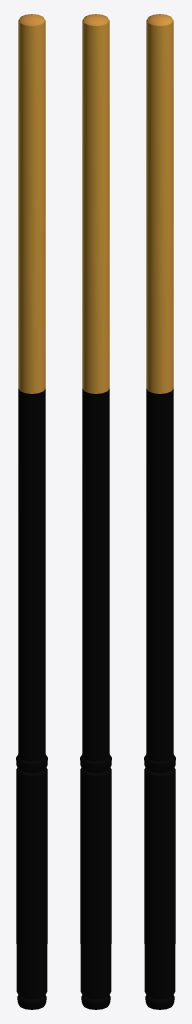
File: Sea_Mark_Cardinal_South.fbx
3 renders of one model, left to right at view 1: azimuth 30°, elevation 25°; view 2: azimuth 150°, elevation 25°; view 3: azimuth 330°, elevation 25°, orthographic.
Parts seen in each view (by area): view 1: Mdl_SeaSign_Cardinal_South; view 2: Mdl_SeaSign_Cardinal_South; view 3: Mdl_SeaSign_Cardinal_South.
Part boxes in pixels (x1,y1,x2,y2): Mdl_SeaSign_Cardinal_South: [16, 14, 47, 1009]; Mdl_SeaSign_Cardinal_South: [80, 14, 111, 1009]; Mdl_SeaSign_Cardinal_South: [144, 14, 175, 1009].
Bounding box in the file's own units: 0.0583 × 2.01 × 0.0583.
